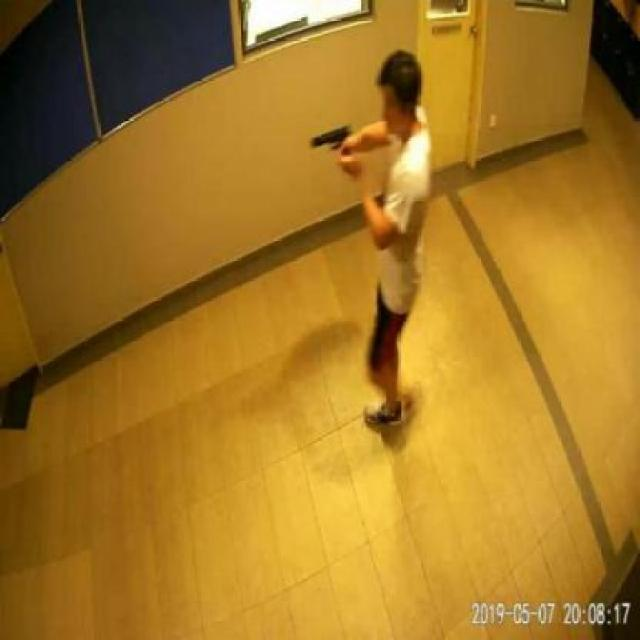gun: (308, 118, 350, 166)
